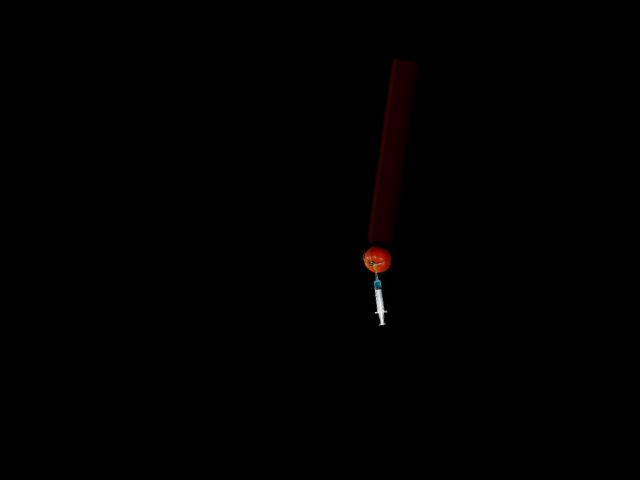tomato: (361, 245, 393, 274)
